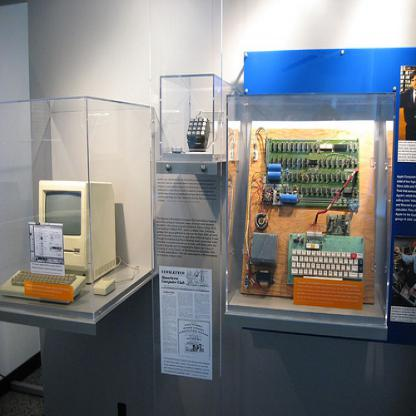tvmonitor: (38, 179, 116, 284)
